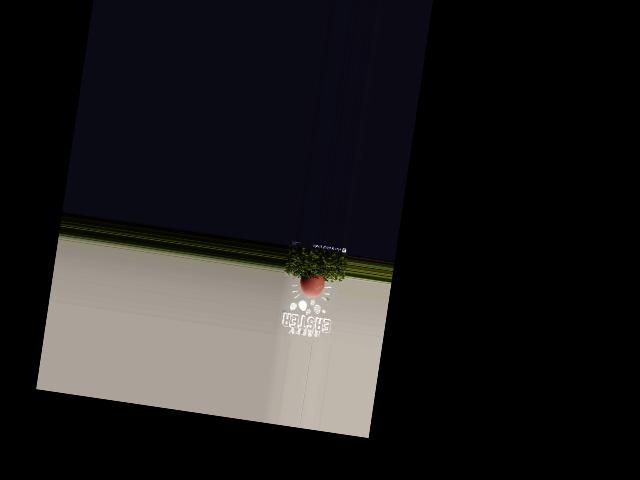egg: (297, 271, 324, 298)
